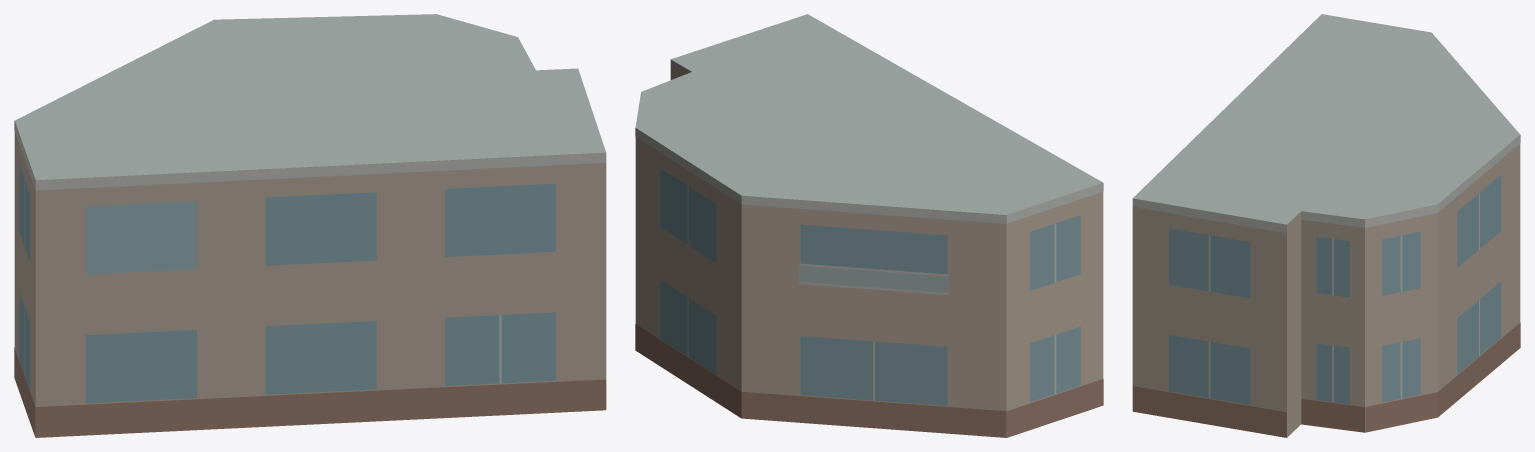
The model's file is survey-upis-32657888.glb.
The picture shows the model from 3 angles, left to right: view 1: azimuth 30°, elevation 25°; view 2: azimuth 150°, elevation 25°; view 3: azimuth 270°, elevation 25°; orthographic projection. The views are drawn at different scales.
Visible parts, largest first — view 1: survey-upis-32657888.tmp; view 2: survey-upis-32657888.tmp; view 3: survey-upis-32657888.tmp.
Part boxes in pixels (x1,y1,x2,y2): survey-upis-32657888.tmp: [14, 14, 606, 437]; survey-upis-32657888.tmp: [635, 14, 1103, 437]; survey-upis-32657888.tmp: [1132, 14, 1520, 437].
Bounding box in the file's own units: 12.94 × 6.1 × 10.07.
